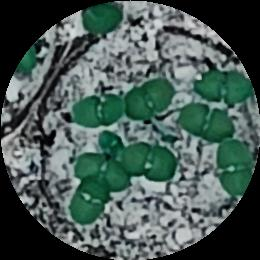Basil: (122, 75, 176, 125), (215, 138, 252, 197), (182, 103, 231, 146), (125, 147, 176, 183), (80, 153, 134, 187), (197, 70, 251, 102), (73, 93, 123, 127), (68, 178, 103, 226), (83, 0, 121, 34)
